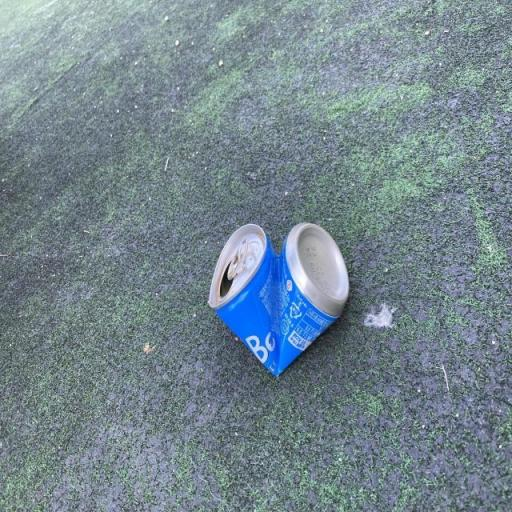metal: (192, 216, 374, 383)
